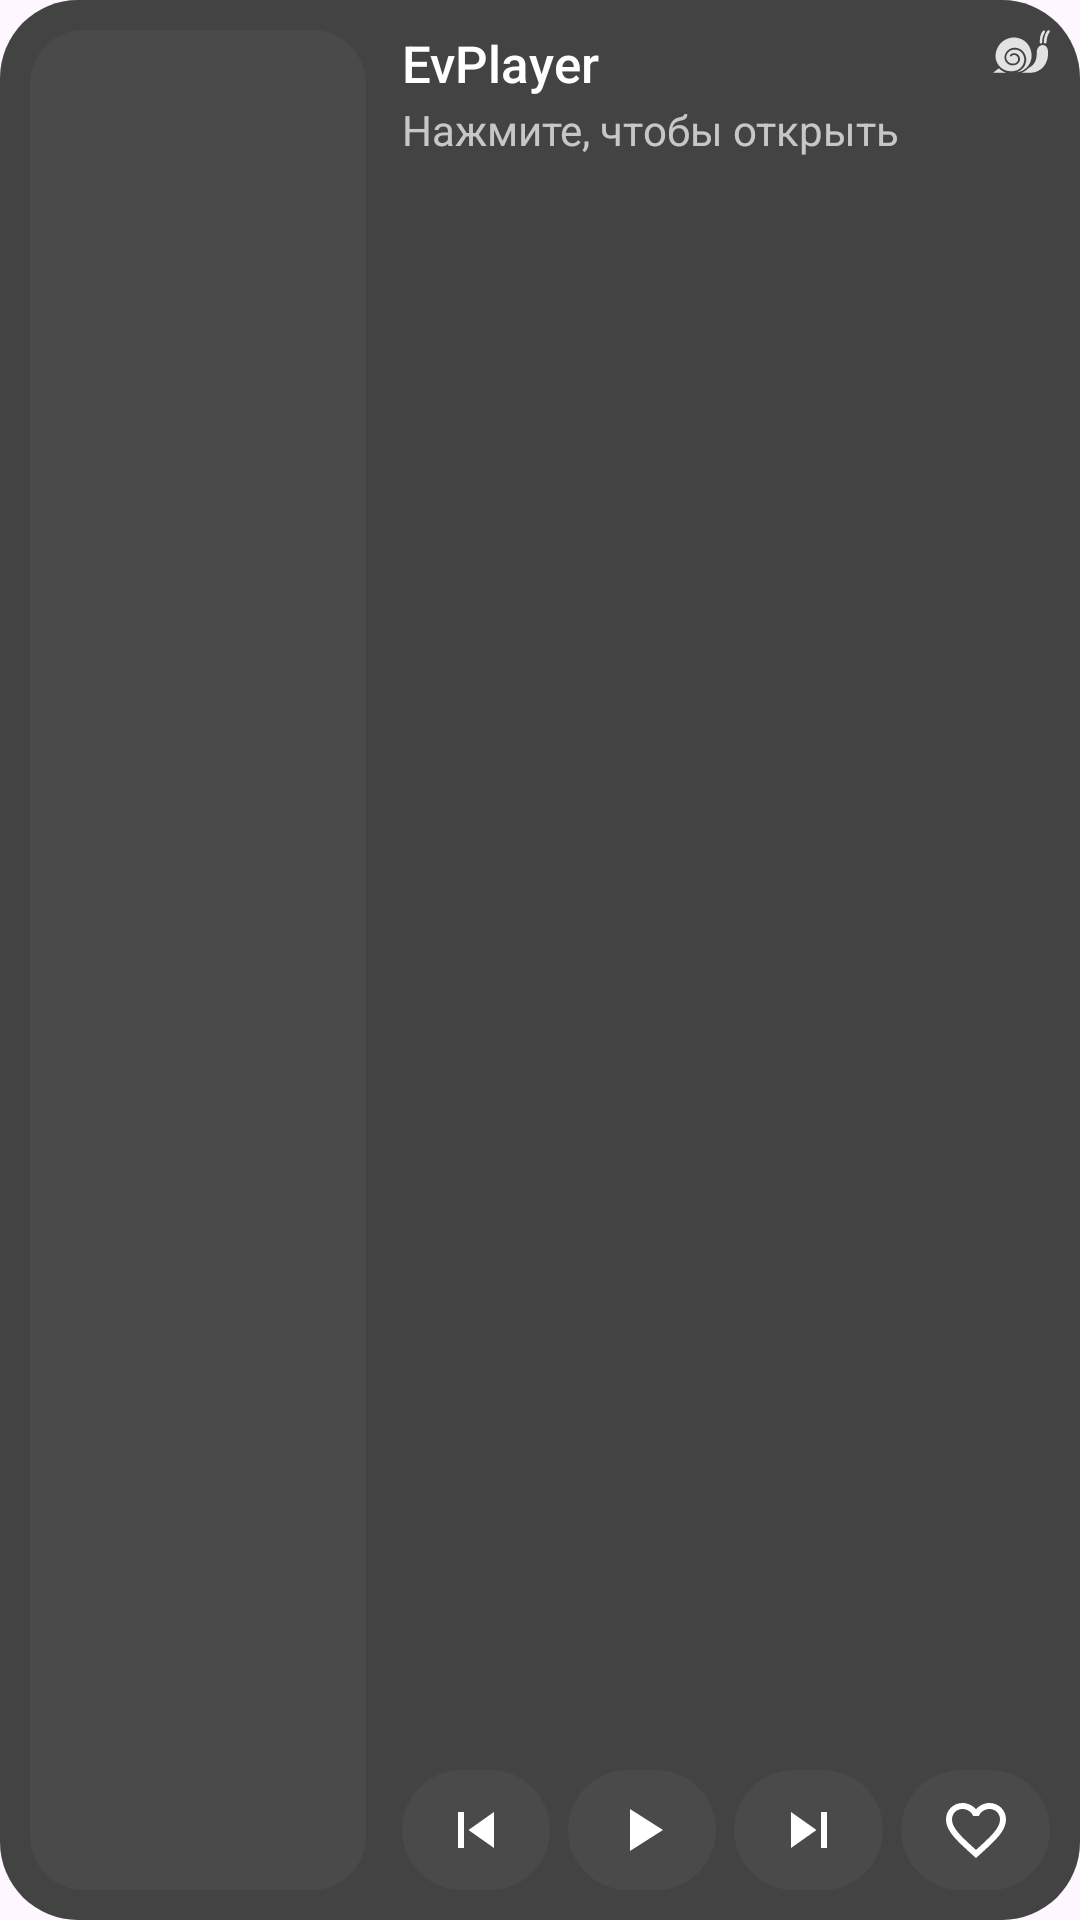

Icon bounding boxes for this 1080 × 1920 phone screenshot, format bbox(x1, y1, x2, y2):
Играть: bbox(630, 1809, 663, 1851)
Нравится: bbox(946, 1803, 1006, 1858)
Предыдущий: bbox(458, 1812, 494, 1848)
Следующий: bbox(791, 1812, 827, 1848)
